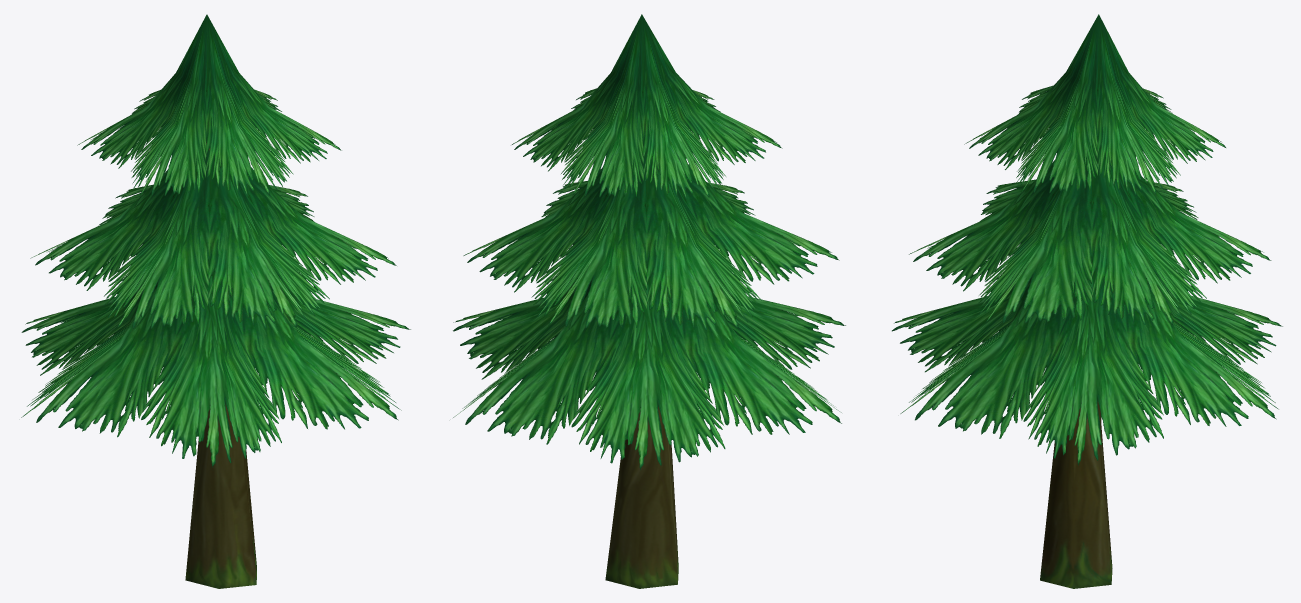
The model's file is Stage_CaoYuan_ShuMu01.FBX.
3 renders of one model, left to right at view 1: azimuth 30°, elevation 25°; view 2: azimuth 150°, elevation 25°; view 3: azimuth 270°, elevation 25°, orthographic. The views are drawn at different scales.
Visible parts, largest first — view 1: Stage_CaoYuan_ShuMu01; view 2: Stage_CaoYuan_ShuMu01; view 3: Stage_CaoYuan_ShuMu01.
Part boxes in pixels (<box>): Stage_CaoYuan_ShuMu01: <box>21,14,410,588</box>; Stage_CaoYuan_ShuMu01: <box>453,14,845,588</box>; Stage_CaoYuan_ShuMu01: <box>892,14,1282,588</box>.
Bounding box in the file's own units: 284 × 377 × 249.
